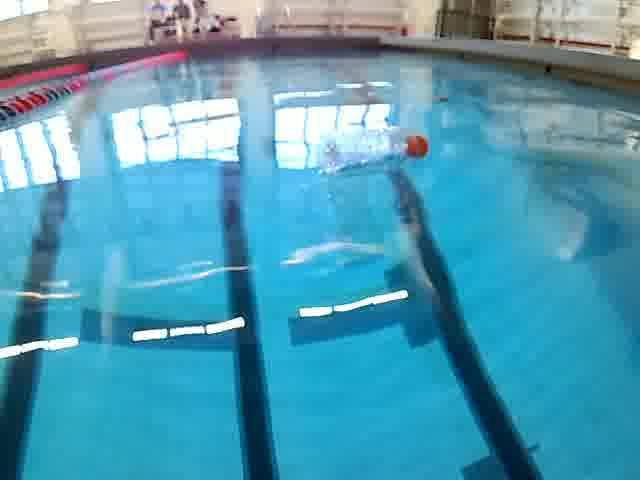Bottle: (312, 123, 435, 178)
